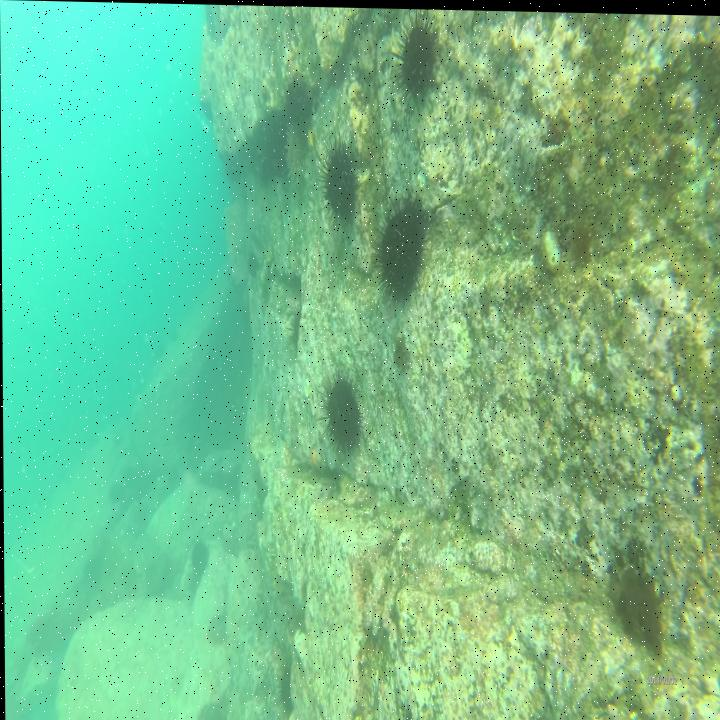echinus: (376, 184, 430, 309), (393, 7, 440, 103), (318, 133, 361, 226), (321, 371, 361, 462), (260, 101, 292, 181), (283, 119, 308, 181), (282, 70, 307, 123), (285, 297, 305, 359), (274, 660, 295, 715), (187, 536, 210, 577)
